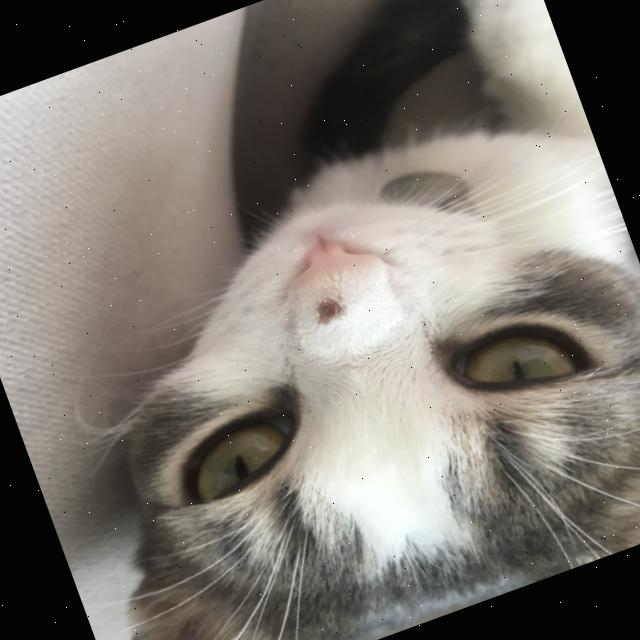cat-lump-and-bump: (300, 286, 357, 336)
